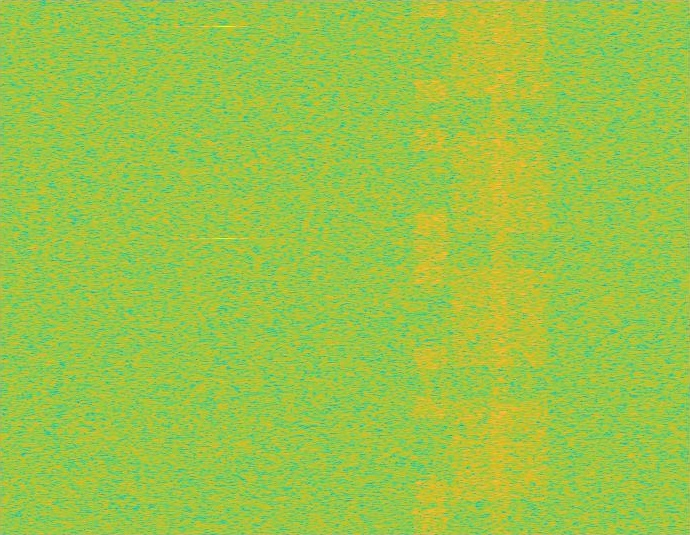5G: (449, 0, 552, 534)
DSSS: (489, 0, 512, 534)
LTE: (414, 0, 449, 534)
Radar: (218, 0, 231, 534)
